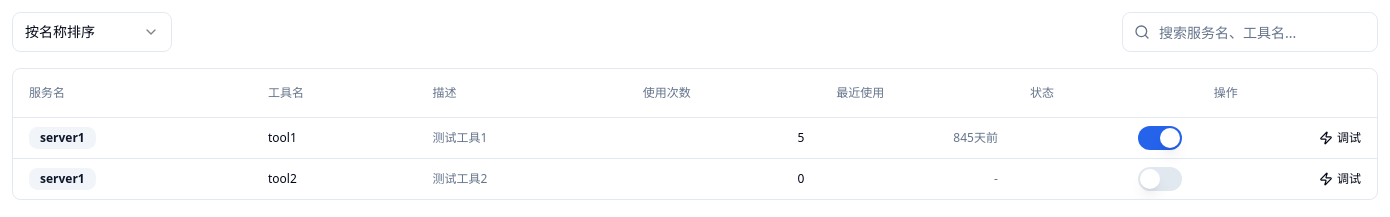
McpToolTable › 搜索功能 › 清除搜索应该恢复完整列表
The width and height of the screenshot is (1390, 217).
expect the text "server1" in the row of "tool1" is shown: met, box [40,129,85,146]
Note:  输入搜索关键词
In the field with placeholder "搜索服务名、工具名...": (1250, 32) [1122,12,1378,52], type "tool1"
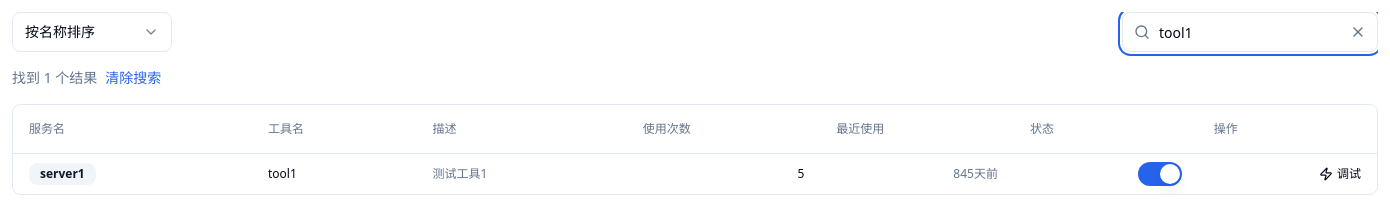
Click the button "清除搜索": (133, 78) [105,68,161,88]
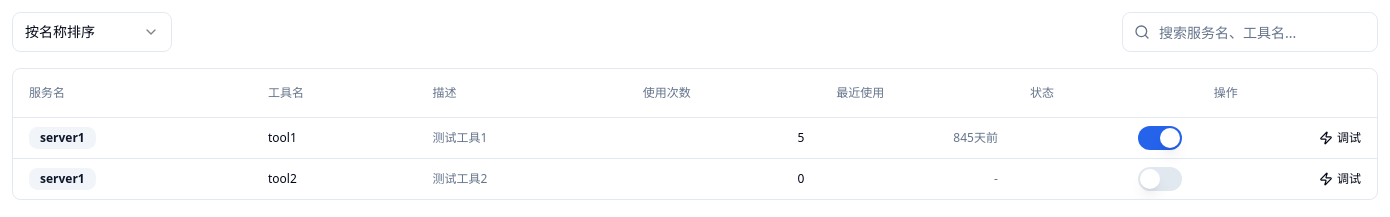
expect the field with placeholder "搜索服务名、工具名..." is empty: met, box [1122,12,1378,52]
